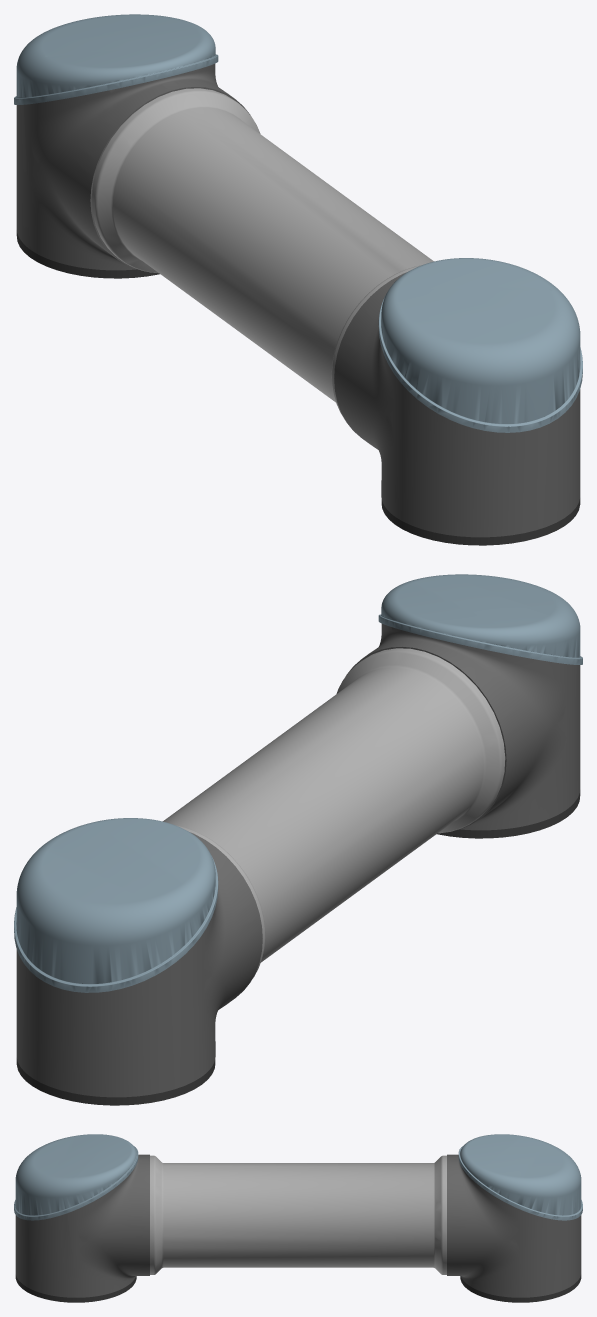
File: upperarm.glb
3 renders of one model, top to bottom at view 1: azimuth 30°, elevation 25°; view 2: azimuth 150°, elevation 25°; view 3: azimuth 270°, elevation 25°, orthographic. The views are drawn at different scales.
Visible parts, largest first — view 1: /Actor3/ActorShape3_0-Mesh_011-mesh/0, batched-0-material-0, batched-2-material-2, batched-1-material-1; view 2: /Actor3/ActorShape3_0-Mesh_011-mesh/0, batched-0-material-0, batched-2-material-2, batched-1-material-1; view 3: /Actor3/ActorShape3_0-Mesh_011-mesh/0, batched-0-material-0, batched-2-material-2, batched-1-material-1.
Part boxes in pixels (bbox=[...]): /Actor3/ActorShape3_0-Mesh_011-mesh/0: bbox=[91, 88, 433, 419]; batched-0-material-0: bbox=[16, 64, 580, 537]; batched-2-material-2: bbox=[14, 14, 582, 432]; batched-1-material-1: bbox=[16, 230, 580, 545]; /Actor3/ActorShape3_0-Mesh_011-mesh/0: bbox=[163, 648, 505, 978]; batched-0-material-0: bbox=[16, 624, 580, 1097]; batched-2-material-2: bbox=[14, 574, 582, 992]; batched-1-material-1: bbox=[16, 790, 580, 1105]; /Actor3/ActorShape3_0-Mesh_011-mesh/0: bbox=[150, 1155, 446, 1274]; batched-0-material-0: bbox=[15, 1154, 581, 1297]; batched-2-material-2: bbox=[14, 1134, 582, 1220]; batched-1-material-1: bbox=[15, 1274, 581, 1302].
Bounding box in the file's own units: 0.119 × 0.1337 × 0.544.
